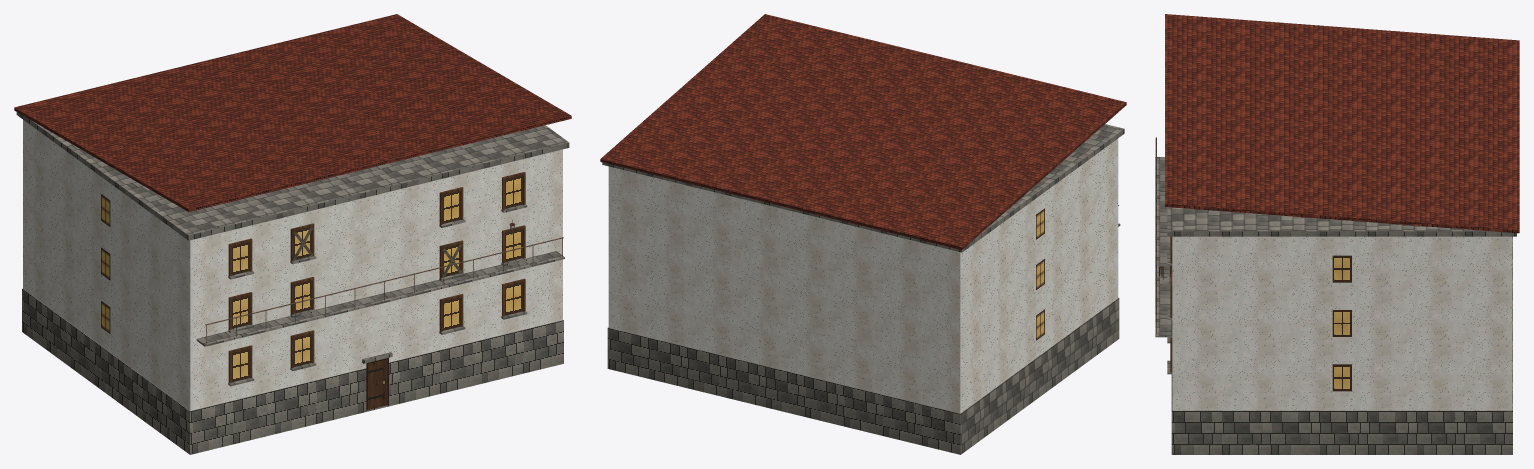
Rendered from dormitorio_hoz.obj.
The picture shows the model from 3 angles, left to right: view 1: azimuth 30°, elevation 25°; view 2: azimuth 150°, elevation 25°; view 3: azimuth 270°, elevation 25°; orthographic projection. The views are drawn at different scales.
Parts seen in each view (by area): view 1: dormitorio_hoz; view 2: dormitorio_hoz; view 3: dormitorio_hoz.
Part boxes in pixels (<box>): dormitorio_hoz: <box>14,14,571,454</box>; dormitorio_hoz: <box>600,14,1126,454</box>; dormitorio_hoz: <box>1155,14,1519,454</box>.
Bounding box in the file's own units: 18.5 × 11.51 × 15.01.
Materials: 9 (9 with a texture image).
